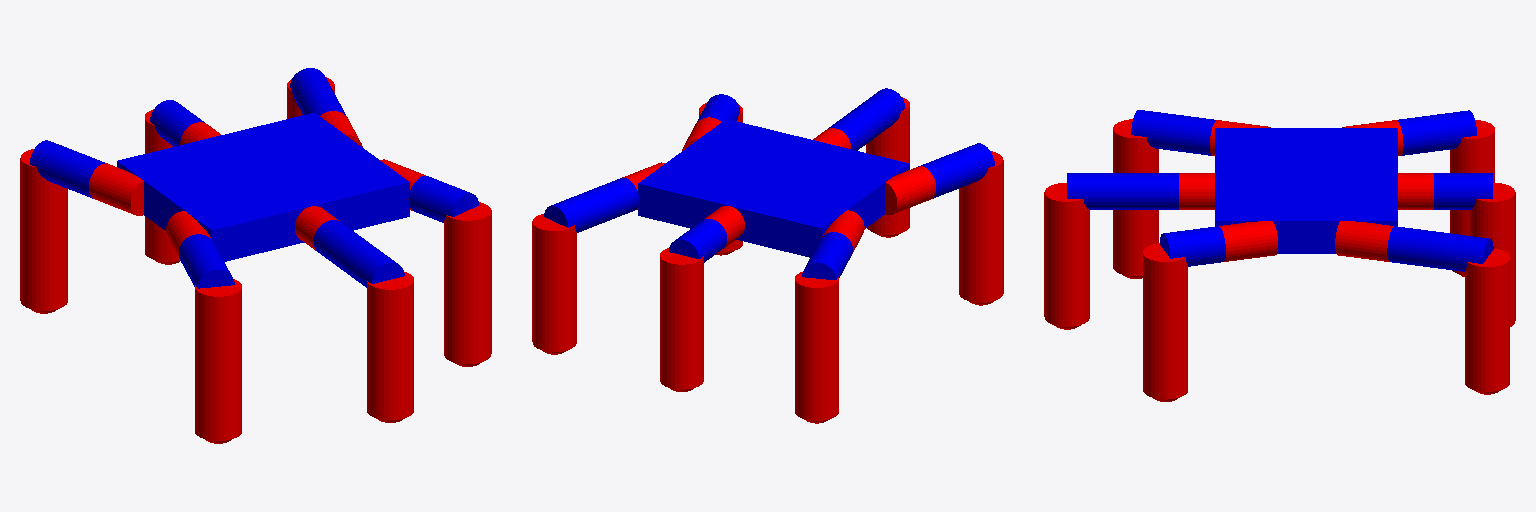
--- Render facts (derived) ---
3 views of the same robot in one strip: view 1: azimuth 30°, elevation 25°; view 2: azimuth 150°, elevation 25°; view 3: azimuth 270°, elevation 25° (orthographic).
Model pexod with 19 links and 18 joints (18 revolute), rooted at base_link, posed all joints at 0.
Visible links, largest first — view 1: base_link, leg_3_3, leg_5_3, leg_4_3, leg_0_3, leg_4_2, leg_0_2, leg_3_2, leg_0_1, leg_5_2, leg_2_2, leg_1_3 (+5 smaller); view 2: base_link, leg_0_3, leg_1_3, leg_2_3, leg_5_3, leg_2_2, leg_4_2, leg_4_3, leg_5_2, leg_5_1, leg_0_2, leg_1_2 (+3 smaller); view 3: base_link, leg_3_3, leg_4_3, leg_2_3, leg_5_3, leg_4_2, leg_2_2, leg_1_3, leg_5_2, leg_0_2, leg_0_3, leg_3_2 (+5 smaller).
Link boxes in pixels (x1,y1,x2,y2): base_link: [117, 113, 409, 261]; leg_3_3: [444, 202, 491, 366]; leg_5_3: [195, 279, 241, 443]; leg_4_3: [367, 272, 413, 422]; leg_0_3: [20, 149, 67, 313]; leg_4_2: [314, 220, 404, 287]; leg_0_2: [30, 140, 107, 198]; leg_3_2: [409, 176, 478, 222]; leg_0_1: [89, 163, 143, 215]; leg_5_2: [179, 234, 234, 288]; leg_2_2: [290, 68, 347, 117]; leg_1_3: [145, 109, 179, 264]; base_link: [638, 119, 909, 257]; leg_0_3: [795, 272, 838, 423]; leg_1_3: [660, 248, 703, 391]; leg_2_3: [532, 214, 576, 354]; leg_5_3: [959, 151, 1003, 305]; leg_2_2: [544, 178, 638, 232]; leg_4_2: [828, 88, 905, 150]; leg_4_3: [866, 97, 909, 237]; leg_5_2: [918, 143, 994, 198]; leg_5_1: [885, 166, 935, 214]; leg_0_2: [802, 232, 852, 279]; leg_1_2: [669, 219, 726, 262]; base_link: [1215, 128, 1397, 253]; leg_3_3: [1143, 243, 1187, 401]; leg_4_3: [1044, 183, 1089, 329]; leg_2_3: [1465, 248, 1509, 394]; leg_5_3: [1113, 119, 1158, 278]; leg_4_2: [1067, 173, 1178, 209]; leg_2_2: [1387, 226, 1493, 271]; leg_1_3: [1470, 183, 1515, 326]; leg_5_2: [1131, 110, 1215, 155]; leg_0_2: [1397, 110, 1476, 155]; leg_0_3: [1450, 120, 1494, 276]; leg_3_2: [1160, 226, 1225, 266].
Size in the robot's own frame: 0.3843 by 0.5162 by 0.1997 metres.
Geometry: primitives only (box / cylinder / sphere), no mesh files.

URDF robot description (pexod):
<?xml version="1.0" ?>
<!-- =================================================================================== -->
<!-- |    This document was autogenerated by xacro from pexod.xacro                    | -->
<!-- |    EDITING THIS FILE BY HAND IS NOT RECOMMENDED                                 | -->
<!-- =================================================================================== -->
<robot name="pexod" xmlns:xacro="http://www.ros.org/wiki/xacro">
  <!-- <xacro:include filename="$(find pexod_description)/urdf/pexod_control.xacro" /> -->
  <!-- MATERIALS -->
  <material name="Blue">
    <color rgba="0 0 1 1"/>
  </material>
  <material name="Red">
    <color rgba="1 0 0 1"/>
  </material>
  <material name="Green">
    <color rgba="0 1 0 1"/>
  </material>
  <material name="Yellow">
    <color rgba="1 1 0 1"/>
  </material>
  <material name="LightGrey">
    <color rgba="0.6 0.6 0.6 1.0"/>
  </material>
  <!-- END OF MATERIALS -->
  <!-- XACRO MACROS FOR VISUALS AND COLLISIONS -->
  <!-- END OF XACRO MACROS -->
  <!-- TORSO -->
  <link name="base_link">
    <visual>
      <origin rpy="0 0 0" xyz="0 0 0"/>
      <geometry>
        <box size="0.24 0.2 0.04"/>
      </geometry>
      <material name="Blue"/>
    </visual>
    <collision>
      <origin rpy="0 0 0" xyz="0 0 0"/>
      <geometry>
        <box size="0.24 0.2 0.04"/>
      </geometry>
    </collision>
    <inertial>
      <!-- CENTER OF MASS -->
      <origin rpy="0 0 0" xyz="0 0 0"/>
      <mass value="1.031"/>
      <!-- box inertia: 1/12*m(y^2+z^2), ... -->
      <inertia ixx="0.00357413333333" ixy="0" ixz="0" iyy="0.00508626666667" iyz="0" izz="0.00838546666667"/>
    </inertial>
  </link>
  <!-- XACRO MACRO FOR LEGS LINKS/JOINTS -->
  <!-- END OF LEG LINKS/JOINTS -->
  <joint name="body_leg_2" type="revolute">
    <parent link="base_link"/>
    <child link="leg_2_1"/>
    <limit effort="30.0" lower="-1.57079632679" upper="1.57079632679" velocity="7.0"/>
    <origin rpy="0 0 -0.3" xyz="0.11 0.04 0"/>
    <!-- <xacro:if value="${index == 5 or index == 4 or index == 3}">
                <axis xyz="0 0 1"/>
            </xacro:if>
            <xacro:if value="${index == 2 or index == 1 or index == 0}"> -->
    <axis xyz="0 0 1"/>
    <!-- </xacro:if> -->
    <dynamics damping="0.0"/>
  </joint>
  <link name="leg_2_1">
    <visual>
      <origin rpy="1.57079632679 0 0" xyz="0.01 0.03 0"/>
      <geometry>
        <cylinder length="0.06" radius="0.02"/>
      </geometry>
      <material name="Red"/>
    </visual>
    <collision>
      <origin rpy="1.57079632679 0 0" xyz="0.01 0.03 0"/>
      <geometry>
        <box size="0.02 0.02 0.06"/>
      </geometry>
    </collision>
    <inertial>
      <!-- CENTER OF MASS -->
      <origin rpy="1.57079632679 0 0" xyz="0.01 0.03 0"/>
      <mass value="0.02"/>
      <!-- box inertia: 1/12*m(y^2+z^2), ... -->
      <inertia ixx="6.66666666667e-06" ixy="0" ixz="0" iyy="6.66666666667e-06" iyz="0" izz="1.33333333333e-06"/>
    </inertial>
  </link>
  <joint name="leg_2_1_2" type="revolute">
    <parent link="leg_2_1"/>
    <child link="leg_2_2"/>
    <limit effort="30.0" lower="-0.78539816339" upper="0.78539816339" velocity="7.0"/>
    <origin rpy="0 0 0" xyz="0 0.06 0"/>
    <axis xyz="1 0 0"/>
    <dynamics damping="0.0"/>
  </joint>
  <link name="leg_2_2">
    <visual>
      <origin rpy="1.57079632679 0 0" xyz="0.01 0.054782162261 0"/>
      <geometry>
        <cylinder length="0.109564324522" radius="0.02"/>
      </geometry>
      <material name="Blue"/>
    </visual>
    <collision>
      <origin rpy="1.57079632679 0 0" xyz="0.01 0.054782162261 0"/>
      <geometry>
        <box size="0.02 0.02 0.109564324522"/>
      </geometry>
    </collision>
    <inertial>
      <!-- CENTER OF MASS -->
      <origin rpy="1.57079632679 0 0" xyz="0.01 0.054782162261 0"/>
      <mass value="0.184"/>
      <!-- box inertia: 1/12*m(y^2+z^2), ... -->
      <inertia ixx="0.000190199898522" ixy="0" ixz="0" iyy="0.000190199898522" iyz="0" izz="1.22666666667e-05"/>
    </inertial>
  </link>
  <joint name="leg_2_2_3" type="revolute">
    <parent link="leg_2_2"/>
    <child link="leg_2_3"/>
    <limit effort="30.0" lower="-0.78539816339" upper="0.78539816339" velocity="7.0"/>
    <origin rpy="-1.57079632679 0 0" xyz="0 0.109564324522 0"/>
    <axis xyz="-1 0 0"/>
    <dynamics damping="0.0"/>
  </joint>
  <link name="leg_2_3">
    <visual>
      <origin rpy="1.57079632679 0 0" xyz="0.0125 0.0753866209035 0"/>
      <geometry>
        <cylinder length="0.150773241807" radius="0.025"/>
      </geometry>
      <material name="Red"/>
    </visual>
    <visual>
      <origin rpy="1.57079632679 0 0" xyz="0.0125 0.138273241807 0"/>
      <geometry>
        <sphere radius="0.025"/>
      </geometry>
      <material name="Red"/>
    </visual>
    <collision>
      <origin rpy="1.57079632679 0 0" xyz="0.0125 0.0753866209035 0"/>
      <geometry>
        <box size="0.025 0.025 0.150773241807"/>
      </geometry>
    </collision>
    <collision>
      <origin rpy="1.57079632679 0 0" xyz="0.0125 0.138273241807 0"/>
      <geometry>
        <sphere radius="0.025"/>
      </geometry>
      <material name="Red"/>
    </collision>
    <inertial>
      <!-- CENTER OF MASS -->
      <origin rpy="1.57079632679 0 0" xyz="0.0125 0.0753866209035 0"/>
      <mass value="0.04"/>
      <!-- box inertia: 1/12*m(y^2+z^2), ... -->
      <inertia ixx="7.785856815e-05" ixy="0" ixz="0" iyy="7.785856815e-05" iyz="0" izz="4.16666666667e-06"/>
    </inertial>
  </link>
  <joint name="body_leg_3" type="revolute">
    <parent link="base_link"/>
    <child link="leg_3_1"/>
    <limit effort="30.0" lower="-1.57079632679" upper="1.57079632679" velocity="7.0"/>
    <origin rpy="0 0 0.3" xyz="0.11 -0.04 0"/>
    <!-- <xacro:if value="${index == 5 or index == 4 or index == 3}">
                <axis xyz="0 0 1"/>
            </xacro:if>
            <xacro:if value="${index == 2 or index == 1 or index == 0}"> -->
    <axis xyz="0 0 1"/>
    <!-- </xacro:if> -->
    <dynamics damping="0.0"/>
  </joint>
  <link name="leg_3_1">
    <visual>
      <origin rpy="1.57079632679 0 0" xyz="0.01 -0.03 0"/>
      <geometry>
        <cylinder length="0.06" radius="0.02"/>
      </geometry>
      <material name="Red"/>
    </visual>
    <collision>
      <origin rpy="1.57079632679 0 0" xyz="0.01 -0.03 0"/>
      <geometry>
        <box size="0.02 0.02 0.06"/>
      </geometry>
    </collision>
    <inertial>
      <!-- CENTER OF MASS -->
      <origin rpy="1.57079632679 0 0" xyz="0.01 -0.03 0"/>
      <mass value="0.02"/>
      <!-- box inertia: 1/12*m(y^2+z^2), ... -->
      <inertia ixx="6.66666666667e-06" ixy="0" ixz="0" iyy="6.66666666667e-06" iyz="0" izz="1.33333333333e-06"/>
    </inertial>
  </link>
  <joint name="leg_3_1_2" type="revolute">
    <parent link="leg_3_1"/>
    <child link="leg_3_2"/>
    <limit effort="30.0" lower="-0.78539816339" upper="0.78539816339" velocity="7.0"/>
    <origin rpy="0 0 0" xyz="0 -0.06 0"/>
    <axis xyz="-1 0 0"/>
    <dynamics damping="0.0"/>
  </joint>
  <link name="leg_3_2">
    <visual>
      <origin rpy="1.57079632679 0 0" xyz="0.01 -0.0318346587434 0"/>
      <geometry>
        <cylinder length="0.0636693174869" radius="0.02"/>
      </geometry>
      <material name="Blue"/>
    </visual>
    <collision>
      <origin rpy="1.57079632679 0 0" xyz="0.01 -0.0318346587434 0"/>
      <geometry>
        <box size="0.02 0.02 0.0636693174869"/>
      </geometry>
    </collision>
    <inertial>
      <!-- CENTER OF MASS -->
      <origin rpy="1.57079632679 0 0" xyz="0.01 -0.0318346587434 0"/>
      <mass value="0.184"/>
      <!-- box inertia: 1/12*m(y^2+z^2), ... -->
      <inertia ixx="6.82913238351e-05" ixy="0" ixz="0" iyy="6.82913238351e-05" iyz="0" izz="1.22666666667e-05"/>
    </inertial>
  </link>
  <joint name="leg_3_2_3" type="revolute">
    <parent link="leg_3_2"/>
    <child link="leg_3_3"/>
    <limit effort="30.0" lower="-0.78539816339" upper="0.78539816339" velocity="7.0"/>
    <origin rpy="1.57079632679 0 0" xyz="0 -0.0636693174869 0"/>
    <axis xyz="1 0 0"/>
    <dynamics damping="0.0"/>
  </joint>
  <link name="leg_3_3">
    <visual>
      <origin rpy="1.57079632679 0 0" xyz="0.0125 -0.0831509065475 0"/>
      <geometry>
        <cylinder length="0.166301813095" radius="0.025"/>
      </geometry>
      <material name="Red"/>
    </visual>
    <visual>
      <origin rpy="1.57079632679 0 0" xyz="0.0125 -0.153801813095 0"/>
      <geometry>
        <sphere radius="0.025"/>
      </geometry>
      <material name="Red"/>
    </visual>
    <collision>
      <origin rpy="1.57079632679 0 0" xyz="0.0125 -0.0831509065475 0"/>
      <geometry>
        <box size="0.025 0.025 0.166301813095"/>
      </geometry>
    </collision>
    <collision>
      <origin rpy="1.57079632679 0 0" xyz="0.0125 -0.153801813095 0"/>
      <geometry>
        <sphere radius="0.025"/>
      </geometry>
      <material name="Red"/>
    </collision>
    <inertial>
      <!-- CENTER OF MASS -->
      <origin rpy="1.57079632679 0 0" xyz="0.0125 -0.0831509065475 0"/>
      <mass value="0.04"/>
      <!-- box inertia: 1/12*m(y^2+z^2), ... -->
      <inertia ixx="9.42709767956e-05" ixy="0" ixz="0" iyy="9.42709767956e-05" iyz="0" izz="4.16666666667e-06"/>
    </inertial>
  </link>
  <joint name="body_leg_0" type="revolute">
    <parent link="base_link"/>
    <child link="leg_0_1"/>
    <limit effort="30.0" lower="-1.57079632679" upper="1.57079632679" velocity="7.0"/>
    <origin rpy="0 0 0.3" xyz="-0.13 0.04 0"/>
    <!-- <xacro:if value="${index == 5 or index == 4 or index == 3}">
                <axis xyz="0 0 1"/>
            </xacro:if>
            <xacro:if value="${index == 2 or index == 1 or index == 0}"> -->
    <axis xyz="0 0 1"/>
    <!-- </xacro:if> -->
    <dynamics damping="0.0"/>
  </joint>
  <link name="leg_0_1">
    <visual>
      <origin rpy="1.57079632679 0 0" xyz="0.01 0.03 0"/>
      <geometry>
        <cylinder length="0.06" radius="0.02"/>
      </geometry>
      <material name="Red"/>
    </visual>
    <collision>
      <origin rpy="1.57079632679 0 0" xyz="0.01 0.03 0"/>
      <geometry>
        <box size="0.02 0.02 0.06"/>
      </geometry>
    </collision>
    <inertial>
      <!-- CENTER OF MASS -->
      <origin rpy="1.57079632679 0 0" xyz="0.01 0.03 0"/>
      <mass value="0.02"/>
      <!-- box inertia: 1/12*m(y^2+z^2), ... -->
      <inertia ixx="6.66666666667e-06" ixy="0" ixz="0" iyy="6.66666666667e-06" iyz="0" izz="1.33333333333e-06"/>
    </inertial>
  </link>
  <joint name="leg_0_1_2" type="revolute">
    <parent link="leg_0_1"/>
    <child link="leg_0_2"/>
    <limit effort="30.0" lower="-0.78539816339" upper="0.78539816339" velocity="7.0"/>
    <origin rpy="0 0 0" xyz="0 0.06 0"/>
    <axis xyz="1 0 0"/>
    <dynamics damping="0.0"/>
  </joint>
  <link name="leg_0_2">
    <visual>
      <origin rpy="1.57079632679 0 0" xyz="0.01 0.0421991181528 0"/>
      <geometry>
        <cylinder length="0.0843982363056" radius="0.02"/>
      </geometry>
      <material name="Blue"/>
    </visual>
    <collision>
      <origin rpy="1.57079632679 0 0" xyz="0.01 0.0421991181528 0"/>
      <geometry>
        <box size="0.02 0.02 0.0843982363056"/>
      </geometry>
    </collision>
    <inertial>
      <!-- CENTER OF MASS -->
      <origin rpy="1.57079632679 0 0" xyz="0.01 0.0421991181528 0"/>
      <mass value="0.184"/>
      <!-- box inertia: 1/12*m(y^2+z^2), ... -->
      <inertia ixx="0.000115353621803" ixy="0" ixz="0" iyy="0.000115353621803" iyz="0" izz="1.22666666667e-05"/>
    </inertial>
  </link>
  <joint name="leg_0_2_3" type="revolute">
    <parent link="leg_0_2"/>
    <child link="leg_0_3"/>
    <limit effort="30.0" lower="-0.78539816339" upper="0.78539816339" velocity="7.0"/>
    <origin rpy="-1.57079632679 0 0" xyz="0 0.0843982363056 0"/>
    <axis xyz="-1 0 0"/>
    <dynamics damping="0.0"/>
  </joint>
  <link name="leg_0_3">
    <visual>
      <origin rpy="1.57079632679 0 0" xyz="0.0125 0.0828965509955 0"/>
      <geometry>
        <cylinder length="0.165793101991" radius="0.025"/>
      </geometry>
      <material name="Red"/>
    </visual>
    <visual>
      <origin rpy="1.57079632679 0 0" xyz="0.0125 0.153293101991 0"/>
      <geometry>
        <sphere radius="0.025"/>
      </geometry>
      <material name="Red"/>
    </visual>
    <collision>
      <origin rpy="1.57079632679 0 0" xyz="0.0125 0.0828965509955 0"/>
      <geometry>
        <box size="0.025 0.025 0.165793101991"/>
      </geometry>
    </collision>
    <collision>
      <origin rpy="1.57079632679 0 0" xyz="0.0125 0.153293101991 0"/>
      <geometry>
        <sphere radius="0.025"/>
      </geometry>
      <material name="Red"/>
    </collision>
    <inertial>
      <!-- CENTER OF MASS -->
      <origin rpy="1.57079632679 0 0" xyz="0.0125 0.0828965509955 0"/>
      <mass value="0.04"/>
      <!-- box inertia: 1/12*m(y^2+z^2), ... -->
      <inertia ixx="9.3707842226e-05" ixy="0" ixz="0" iyy="9.3707842226e-05" iyz="0" izz="4.16666666667e-06"/>
    </inertial>
  </link>
  <joint name="body_leg_5" type="revolute">
    <parent link="base_link"/>
    <child link="leg_5_1"/>
    <limit effort="30.0" lower="-1.57079632679" upper="1.57079632679" velocity="7.0"/>
    <origin rpy="0 0 -0.3" xyz="-0.13 -0.04 0"/>
    <!-- <xacro:if value="${index == 5 or index == 4 or index == 3}">
                <axis xyz="0 0 1"/>
            </xacro:if>
            <xacro:if value="${index == 2 or index == 1 or index == 0}"> -->
    <axis xyz="0 0 1"/>
    <!-- </xacro:if> -->
    <dynamics damping="0.0"/>
  </joint>
  <link name="leg_5_1">
    <visual>
      <origin rpy="1.57079632679 0 0" xyz="0.01 -0.03 0"/>
      <geometry>
        <cylinder length="0.06" radius="0.02"/>
      </geometry>
      <material name="Red"/>
    </visual>
    <collision>
      <origin rpy="1.57079632679 0 0" xyz="0.01 -0.03 0"/>
      <geometry>
        <box size="0.02 0.02 0.06"/>
      </geometry>
    </collision>
    <inertial>
      <!-- CENTER OF MASS -->
      <origin rpy="1.57079632679 0 0" xyz="0.01 -0.03 0"/>
      <mass value="0.02"/>
      <!-- box inertia: 1/12*m(y^2+z^2), ... -->
      <inertia ixx="6.66666666667e-06" ixy="0" ixz="0" iyy="6.66666666667e-06" iyz="0" izz="1.33333333333e-06"/>
    </inertial>
  </link>
  <joint name="leg_5_1_2" type="revolute">
    <parent link="leg_5_1"/>
    <child link="leg_5_2"/>
    <limit effort="30.0" lower="-0.78539816339" upper="0.78539816339" velocity="7.0"/>
    <origin rpy="0 0 0" xyz="0 -0.06 0"/>
    <axis xyz="-1 0 0"/>
    <dynamics damping="0.0"/>
  </joint>
  <link name="leg_5_2">
    <visual>
      <origin rpy="1.57079632679 0 0" xyz="0.01 -0.0450974334029 0"/>
      <geometry>
        <cylinder length="0.0901948668057" radius="0.02"/>
      </geometry>
      <material name="Blue"/>
    </visual>
    <collision>
      <origin rpy="1.57079632679 0 0" xyz="0.01 -0.0450974334029 0"/>
      <geometry>
        <box size="0.02 0.02 0.0901948668057"/>
      </geometry>
    </collision>
    <inertial>
      <!-- CENTER OF MASS -->
      <origin rpy="1.57079632679 0 0" xyz="0.01 -0.0450974334029 0"/>
      <mass value="0.184"/>
      <!-- box inertia: 1/12*m(y^2+z^2), ... -->
      <inertia ixx="0.000130871747971" ixy="0" ixz="0" iyy="0.000130871747971" iyz="0" izz="1.22666666667e-05"/>
    </inertial>
  </link>
  <joint name="leg_5_2_3" type="revolute">
    <parent link="leg_5_2"/>
    <child link="leg_5_3"/>
    <limit effort="30.0" lower="-0.78539816339" upper="0.78539816339" velocity="7.0"/>
    <origin rpy="1.57079632679 0 0" xyz="0 -0.0901948668057 0"/>
    <axis xyz="1 0 0"/>
    <dynamics damping="0.0"/>
  </joint>
  <link name="leg_5_3">
    <visual>
      <origin rpy="1.57079632679 0 0" xyz="0.0125 -0.0835751157385 0"/>
      <geometry>
        <cylinder length="0.167150231477" radius="0.025"/>
      </geometry>
      <material name="Red"/>
    </visual>
    <visual>
      <origin rpy="1.57079632679 0 0" xyz="0.0125 -0.154650231477 0"/>
      <geometry>
        <sphere radius="0.025"/>
      </geometry>
      <material name="Red"/>
    </visual>
    <collision>
      <origin rpy="1.57079632679 0 0" xyz="0.0125 -0.0835751157385 0"/>
      <geometry>
        <box size="0.025 0.025 0.167150231477"/>
      </geometry>
    </collision>
    <collision>
      <origin rpy="1.57079632679 0 0" xyz="0.0125 -0.154650231477 0"/>
      <geometry>
        <sphere radius="0.025"/>
      </geometry>
      <material name="Red"/>
    </collision>
    <inertial>
      <!-- CENTER OF MASS -->
      <origin rpy="1.57079632679 0 0" xyz="0.0125 -0.0835751157385 0"/>
      <mass value="0.04"/>
      <!-- box inertia: 1/12*m(y^2+z^2), ... -->
      <inertia ixx="9.52139996094e-05" ixy="0" ixz="0" iyy="9.52139996094e-05" iyz="0" izz="4.16666666667e-06"/>
    </inertial>
  </link>
  <joint name="body_leg_1" type="revolute">
    <parent link="base_link"/>
    <child link="leg_1_1"/>
    <limit effort="30.0" lower="-1.57079632679" upper="1.57079632679" velocity="7.0"/>
    <origin rpy="0 0 0" xyz="-0.01 0.08 0"/>
    <!-- <xacro:if value="${index == 5 or index == 4 or index == 3}">
                <axis xyz="0 0 1"/>
            </xacro:if>
            <xacro:if value="${index == 2 or index == 1 or index == 0}"> -->
    <axis xyz="0 0 1"/>
    <!-- </xacro:if> -->
    <dynamics damping="0.0"/>
  </joint>
  <link name="leg_1_1">
    <visual>
      <origin rpy="1.57079632679 0 0" xyz="0.01 0.03 0"/>
      <geometry>
        <cylinder length="0.06" radius="0.02"/>
      </geometry>
      <material name="Red"/>
    </visual>
    <collision>
      <origin rpy="1.57079632679 0 0" xyz="0.01 0.03 0"/>
      <geometry>
        <box size="0.02 0.02 0.06"/>
      </geometry>
    </collision>
    <inertial>
      <!-- CENTER OF MASS -->
      <origin rpy="1.57079632679 0 0" xyz="0.01 0.03 0"/>
      <mass value="0.02"/>
      <!-- box inertia: 1/12*m(y^2+z^2), ... -->
      <inertia ixx="6.66666666667e-06" ixy="0" ixz="0" iyy="6.66666666667e-06" iyz="0" izz="1.33333333333e-06"/>
    </inertial>
  </link>
  <joint name="leg_1_1_2" type="revolute">
    <parent link="leg_1_1"/>
    <child link="leg_1_2"/>
    <limit effort="30.0" lower="-0.78539816339" upper="0.78539816339" velocity="7.0"/>
    <origin rpy="0 0 0" xyz="0 0.06 0"/>
    <axis xyz="1 0 0"/>
    <dynamics damping="0.0"/>
  </joint>
  <link name="leg_1_2">
    <visual>
      <origin rpy="1.57079632679 0 0" xyz="0.01 0.0319464741846 0"/>
      <geometry>
        <cylinder length="0.0638929483693" radius="0.02"/>
      </geometry>
      <material name="Blue"/>
    </visual>
    <collision>
      <origin rpy="1.57079632679 0 0" xyz="0.01 0.0319464741846 0"/>
      <geometry>
        <box size="0.02 0.02 0.0638929483693"/>
      </geometry>
    </collision>
    <inertial>
      <!-- CENTER OF MASS -->
      <origin rpy="1.57079632679 0 0" xyz="0.01 0.0319464741846 0"/>
      <mass value="0.184"/>
      <!-- box inertia: 1/12*m(y^2+z^2), ... -->
      <inertia ixx="6.87287357203e-05" ixy="0" ixz="0" iyy="6.87287357203e-05" iyz="0" izz="1.22666666667e-05"/>
    </inertial>
  </link>
  <joint name="leg_1_2_3" type="revolute">
    <parent link="leg_1_2"/>
    <child link="leg_1_3"/>
    <limit effort="30.0" lower="-0.78539816339" upper="0.78539816339" velocity="7.0"/>
    <origin rpy="-1.57079632679 0 0" xyz="0 0.0638929483693 0"/>
    <axis xyz="-1 0 0"/>
    <dynamics damping="0.0"/>
  </joint>
  <link name="leg_1_3">
    <visual>
      <origin rpy="1.57079632679 0 0" xyz="0.0125 0.077978062901 0"/>
      <geometry>
        <cylinder length="0.155956125802" radius="0.025"/>
      </geometry>
      <material name="Red"/>
    </visual>
    <visual>
      <origin rpy="1.57079632679 0 0" xyz="0.0125 0.143456125802 0"/>
      <geometry>
        <sphere radius="0.025"/>
      </geometry>
      <material name="Red"/>
    </visual>
    <collision>
      <origin rpy="1.57079632679 0 0" xyz="0.0125 0.077978062901 0"/>
      <geometry>
        <box size="0.025 0.025 0.155956125802"/>
      </geometry>
    </collision>
    <collision>
      <origin rpy="1.57079632679 0 0" xyz="0.0125 0.143456125802 0"/>
      <geometry>
        <sphere radius="0.025"/>
      </geometry>
      <material name="Red"/>
    </collision>
    <inertial>
      <!-- CENTER OF MASS -->
      <origin rpy="1.57079632679 0 0" xyz="0.0125 0.077978062901 0"/>
      <mass value="0.04"/>
      <!-- box inertia: 1/12*m(y^2+z^2), ... -->
      <inertia ixx="8.31577105839e-05" ixy="0" ixz="0" iyy="8.31577105839e-05" iyz="0" izz="4.16666666667e-06"/>
    </inertial>
  </link>
  <joint name="body_leg_4" type="revolute">
    <parent link="base_link"/>
    <child link="leg_4_1"/>
    <limit effort="30.0" lower="-1.57079632679" upper="1.57079632679" velocity="7.0"/>
    <origin rpy="0 0 0" xyz="-0.01 -0.08 0"/>
    <!-- <xacro:if value="${index == 5 or index == 4 or index == 3}">
                <axis xyz="0 0 1"/>
            </xacro:if>
            <xacro:if value="${index == 2 or index == 1 or index == 0}"> -->
    <axis xyz="0 0 1"/>
    <!-- </xacro:if> -->
    <dynamics damping="0.0"/>
  </joint>
  <link name="leg_4_1">
    <visual>
      <origin rpy="1.57079632679 0 0" xyz="0.01 -0.03 0"/>
      <geometry>
        <cylinder length="0.06" radius="0.02"/>
      </geometry>
      <material name="Red"/>
    </visual>
    <collision>
      <origin rpy="1.57079632679 0 0" xyz="0.01 -0.03 0"/>
      <geometry>
        <box size="0.02 0.02 0.06"/>
      </geometry>
    </collision>
    <inertial>
      <!-- CENTER OF MASS -->
      <origin rpy="1.57079632679 0 0" xyz="0.01 -0.03 0"/>
      <mass value="0.02"/>
      <!-- box inertia: 1/12*m(y^2+z^2), ... -->
      <inertia ixx="6.66666666667e-06" ixy="0" ixz="0" iyy="6.66666666667e-06" iyz="0" izz="1.33333333333e-06"/>
    </inertial>
  </link>
  <joint name="leg_4_1_2" type="revolute">
    <parent link="leg_4_1"/>
    <child link="leg_4_2"/>
    <limit effort="30.0" lower="-0.78539816339" upper="0.78539816339" velocity="7.0"/>
    <origin rpy="0 0 0" xyz="0 -0.06 0"/>
    <axis xyz="-1 0 0"/>
    <dynamics damping="0.0"/>
  </joint>
  <link name="leg_4_2">
    <visual>
      <origin rpy="1.57079632679 0 0" xyz="0.01 -0.0611699485475 0"/>
      <geometry>
        <cylinder length="0.122339897095" radius="0.02"/>
      </geometry>
      <material name="Blue"/>
    </visual>
    <collision>
      <origin rpy="1.57079632679 0 0" xyz="0.01 -0.0611699485475 0"/>
      <geometry>
        <box size="0.02 0.02 0.122339897095"/>
      </geometry>
    </collision>
    <inertial>
      <!-- CENTER OF MASS -->
      <origin rpy="1.57079632679 0 0" xyz="0.01 -0.0611699485475 0"/>
      <mass value="0.184"/>
      <!-- box inertia: 1/12*m(y^2+z^2), ... -->
      <inertia ixx="0.000235628106459" ixy="0" ixz="0" iyy="0.000235628106459" iyz="0" izz="1.22666666667e-05"/>
    </inertial>
  </link>
  <joint name="leg_4_2_3" type="revolute">
    <parent link="leg_4_2"/>
    <child link="leg_4_3"/>
    <limit effort="30.0" lower="-0.78539816339" upper="0.78539816339" velocity="7.0"/>
    <origin rpy="1.57079632679 0 0" xyz="0 -0.122339897095 0"/>
    <axis xyz="1 0 0"/>
    <dynamics damping="0.0"/>
  </joint>
  <link name="leg_4_3">
    <visual>
      <origin rpy="1.57079632679 0 0" xyz="0.0125 -0.075613631888 0"/>
      <geometry>
        <cylinder length="0.151227263776" radius="0.025"/>
      </geometry>
      <material name="Red"/>
    </visual>
    <visual>
      <origin rpy="1.57079632679 0 0" xyz="0.0125 -0.138727263776 0"/>
      <geometry>
        <sphere radius="0.025"/>
      </geometry>
      <material name="Red"/>
    </visual>
    <collision>
      <origin rpy="1.57079632679 0 0" xyz="0.0125 -0.075613631888 0"/>
      <geometry>
        <box size="0.025 0.025 0.151227263776"/>
      </geometry>
    </collision>
    <collision>
      <origin rpy="1.57079632679 0 0" xyz="0.0125 -0.138727263776 0"/>
      <geometry>
        <sphere radius="0.025"/>
      </geometry>
      <material name="Red"/>
    </collision>
    <inertial>
      <!-- CENTER OF MASS -->
      <origin rpy="1.57079632679 0 0" xyz="0.0125 -0.075613631888 0"/>
      <mass value="0.04"/>
      <!-- box inertia: 1/12*m(y^2+z^2), ... -->
      <inertia ixx="7.83156176973e-05" ixy="0" ixz="0" iyy="7.83156176973e-05" iyz="0" izz="4.16666666667e-06"/>
    </inertial>
  </link>
  <!-- END OF LEG LINKS/JOINTS -->
</robot>
